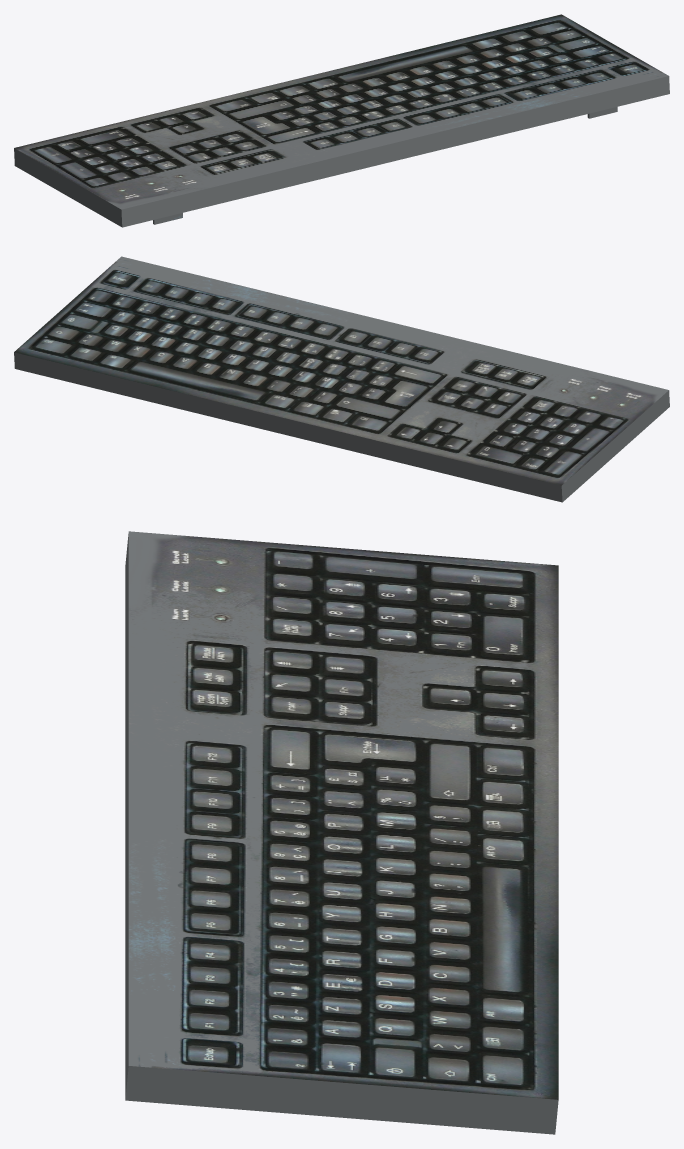
Rendered from Keyboard_AA.fbx.
The picture shows the model from 3 angles, top to bottom: view 1: azimuth 30°, elevation 25°; view 2: azimuth 150°, elevation 25°; view 3: azimuth 270°, elevation 25°; orthographic projection. The views are drawn at different scales.
Visible parts, largest first — view 1: Keyboard_AA; view 2: Keyboard_AA; view 3: Keyboard_AA.
Part boxes in pixels (x1=…): Keyboard_AA: x1=14, y1=14, x2=669, y2=227; Keyboard_AA: x1=14, y1=256, x2=669, y2=502; Keyboard_AA: x1=125, y1=531, x2=558, y2=1134.
Bounding box in the file's own units: 2 × 0.6851 × 0.1215.
1 material, 1 textured.
